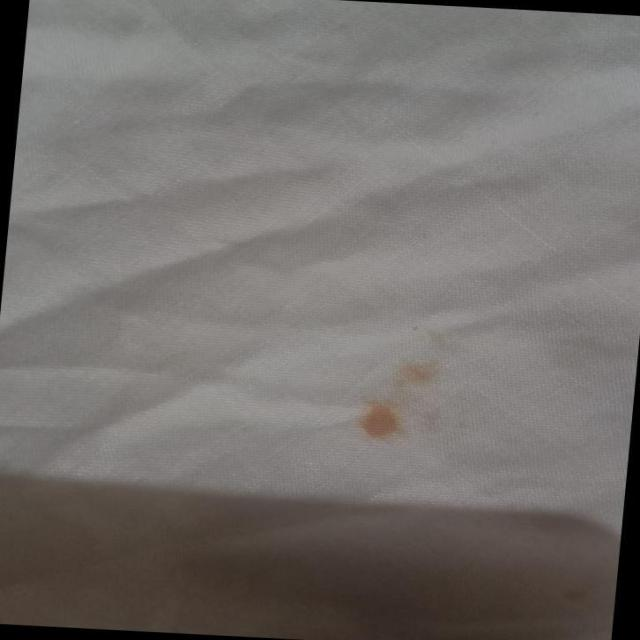stain: (343, 342, 468, 456)
